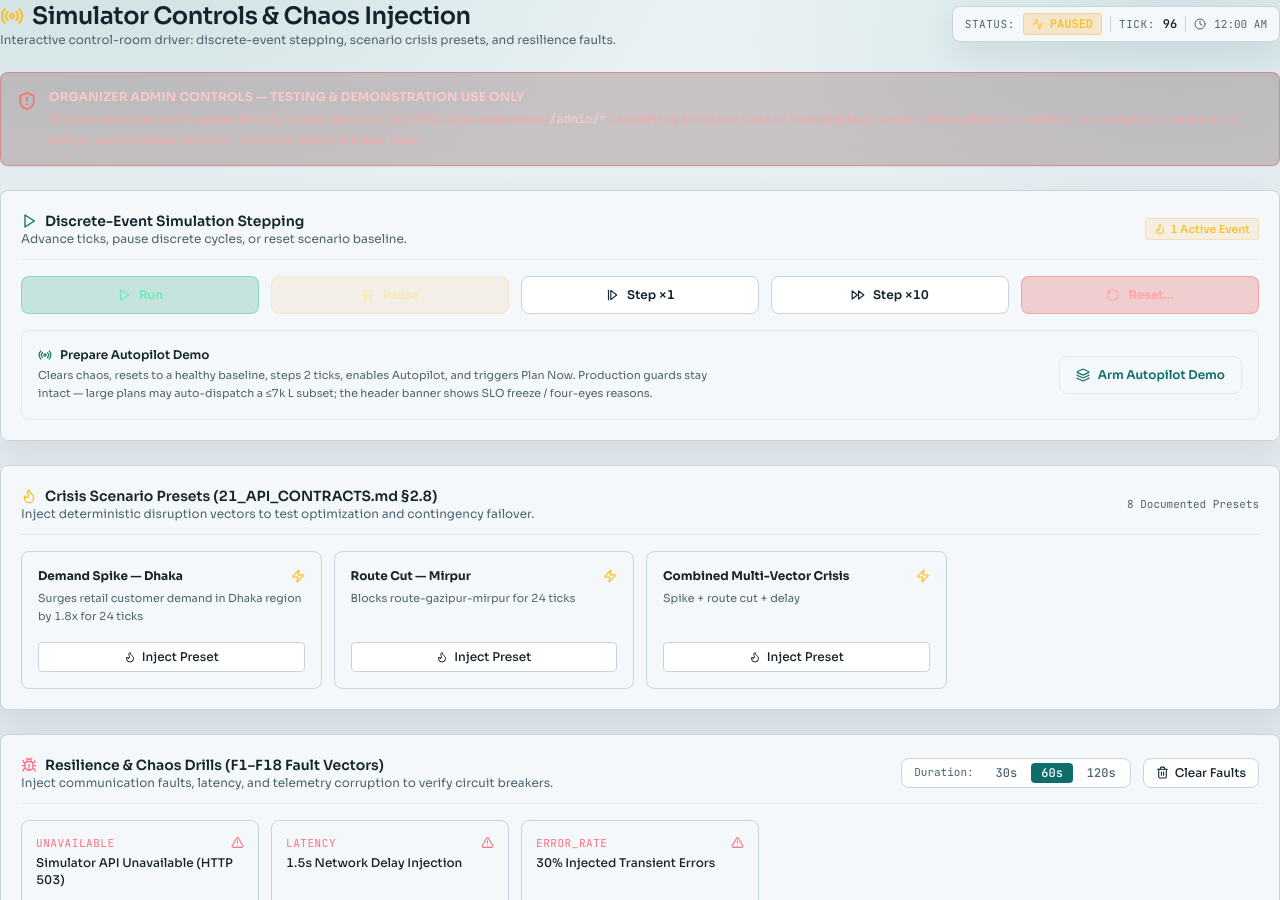
it: Simulator Control & Chaos Drill Page › handles reset with confirmation modal
Later steps or results of the test are not shown.
Click the button with test id "ctl-reset".
click(1140, 295)  # box [1021,276,1259,314]
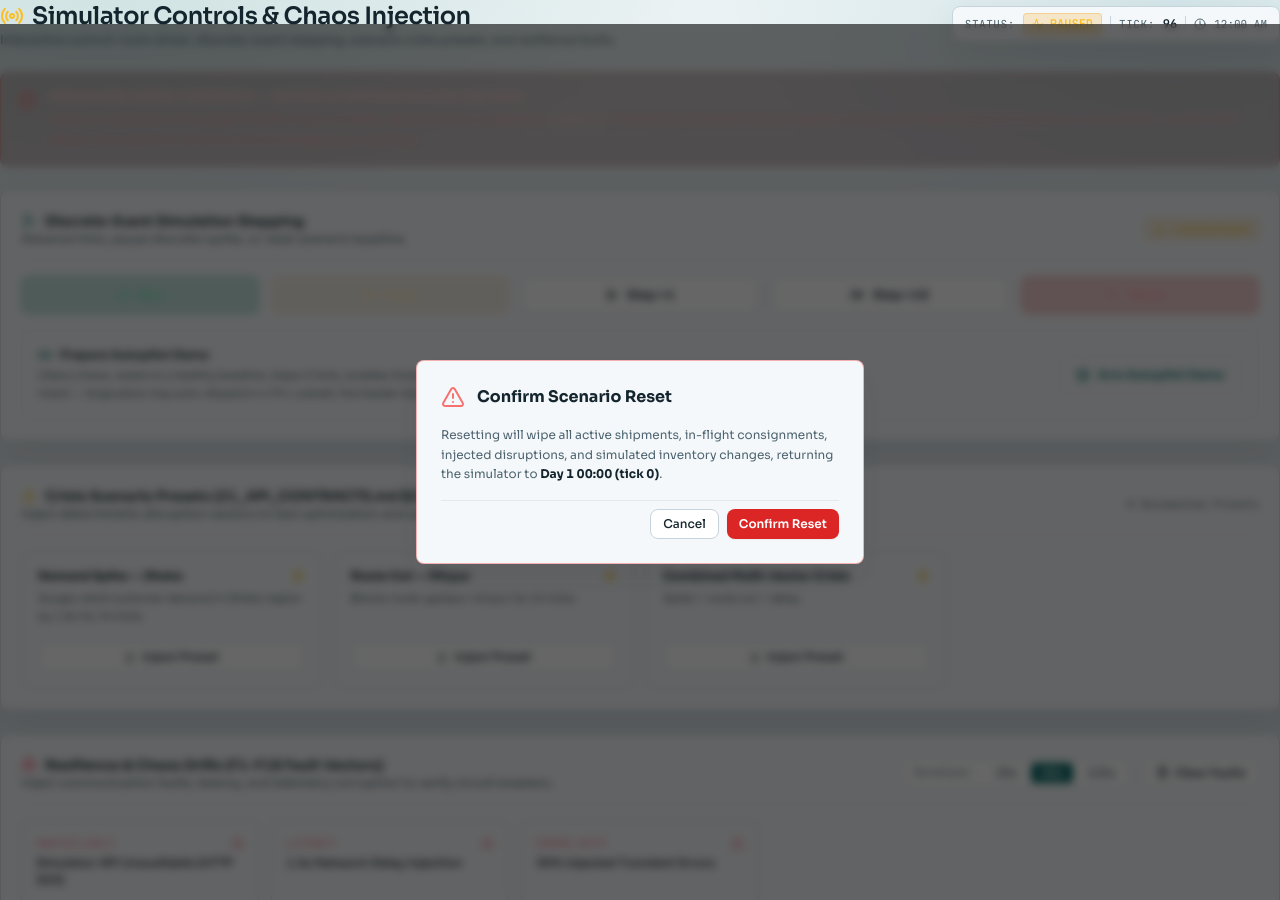
Expected: the heading "Confirm Scenario Reset" is shown, [477,385,672,409]
